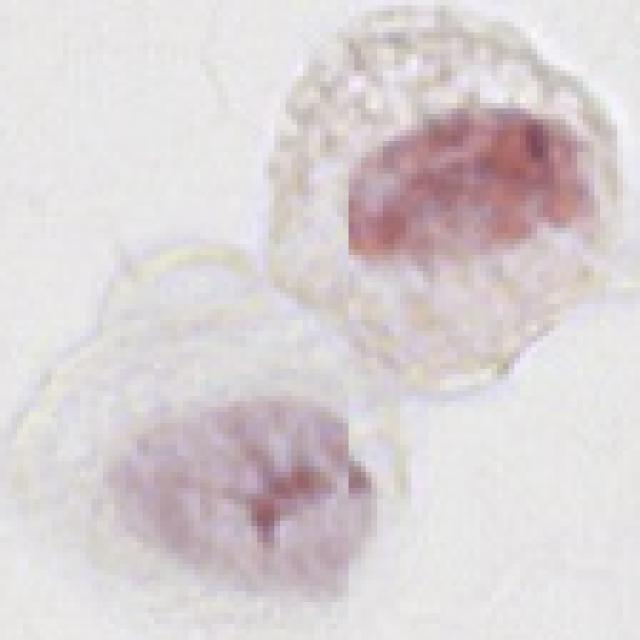cytoplasm: (0, 190, 516, 640)
nucleus: (84, 347, 409, 630), (319, 64, 616, 304)
